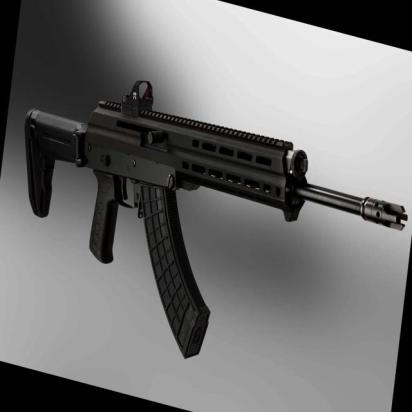Gun: (24, 74, 412, 360)
